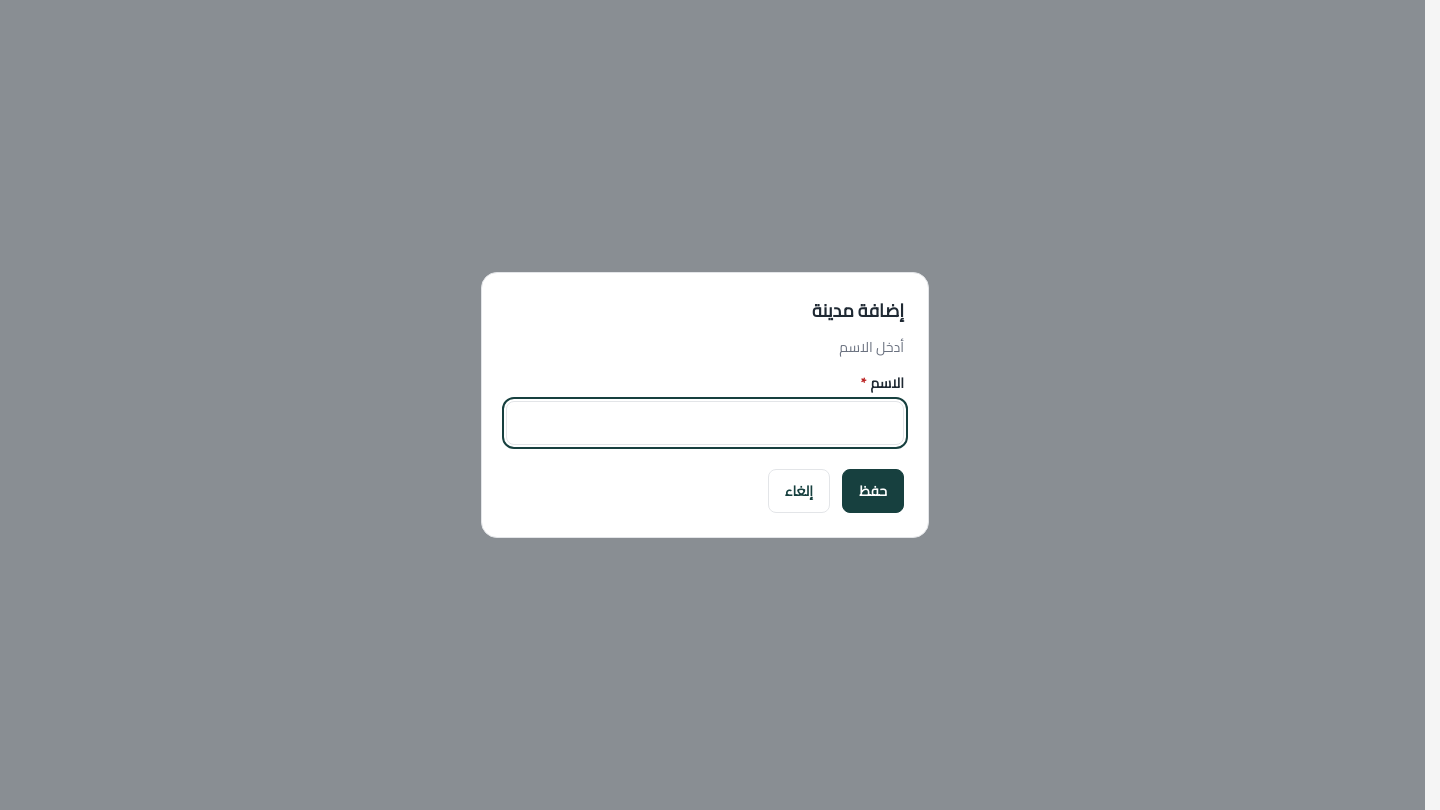
rejects invalid name
This screenshot has width=1440, height=810.
Click the button "حفظ" at (873, 491), box 842,469 -> 904,513
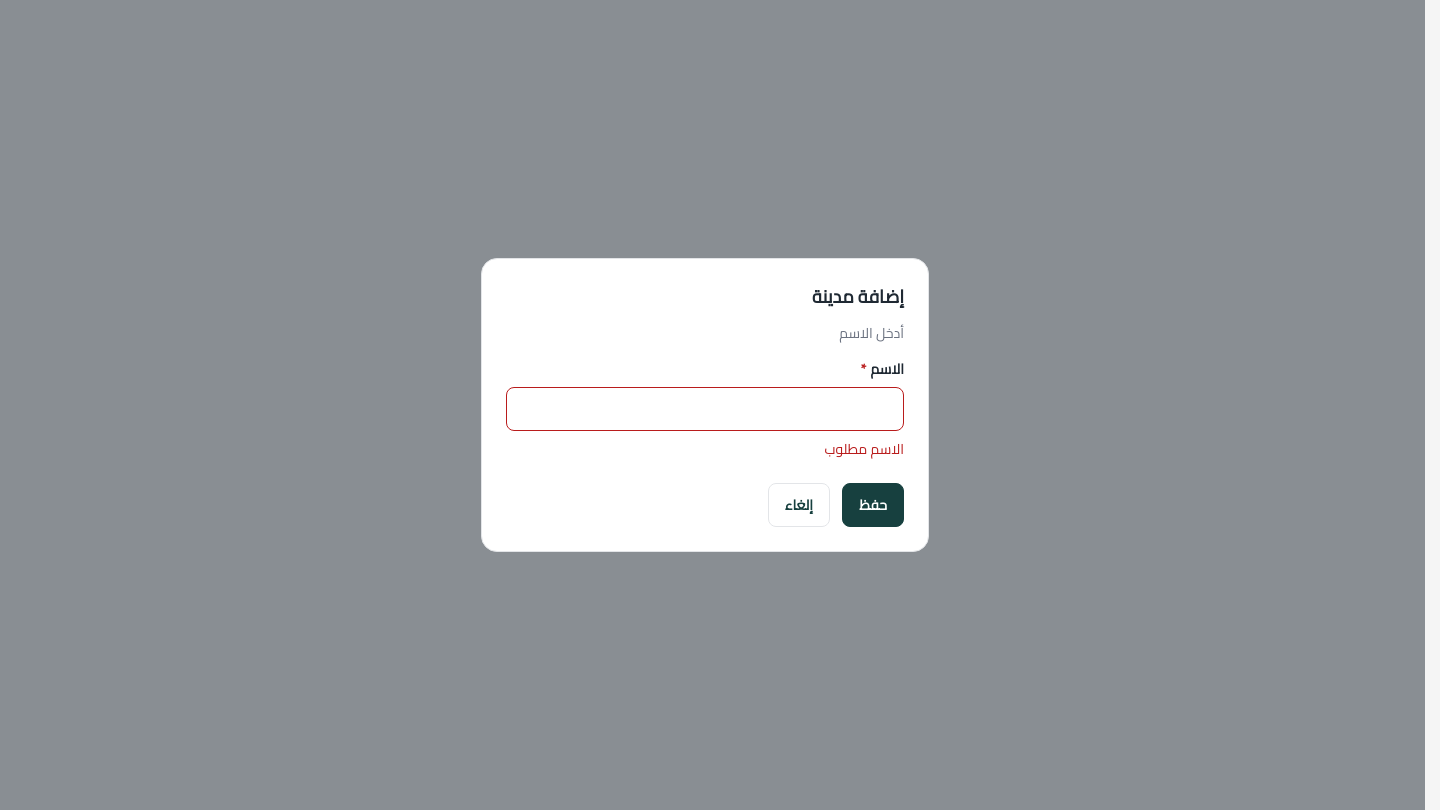
expect the message "الاسم مطلوب" is shown: met, box 824,436 -> 904,462
